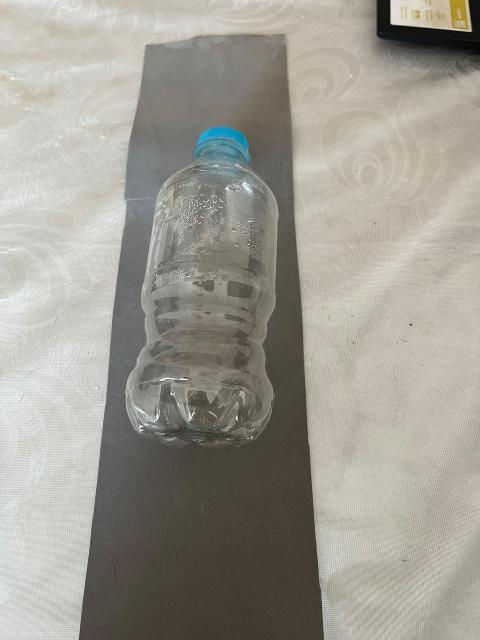PET: (103, 103, 309, 471)
